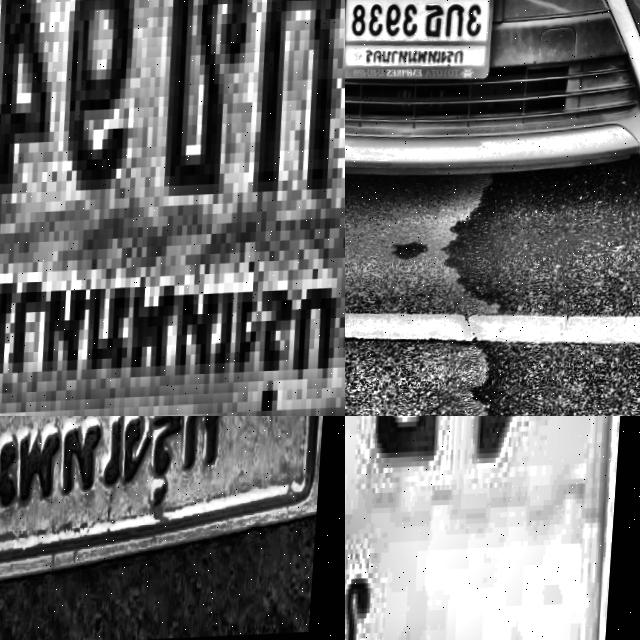license-plate: (0, 0, 345, 416), (0, 416, 345, 640), (345, 416, 640, 640), (345, 0, 495, 81)
